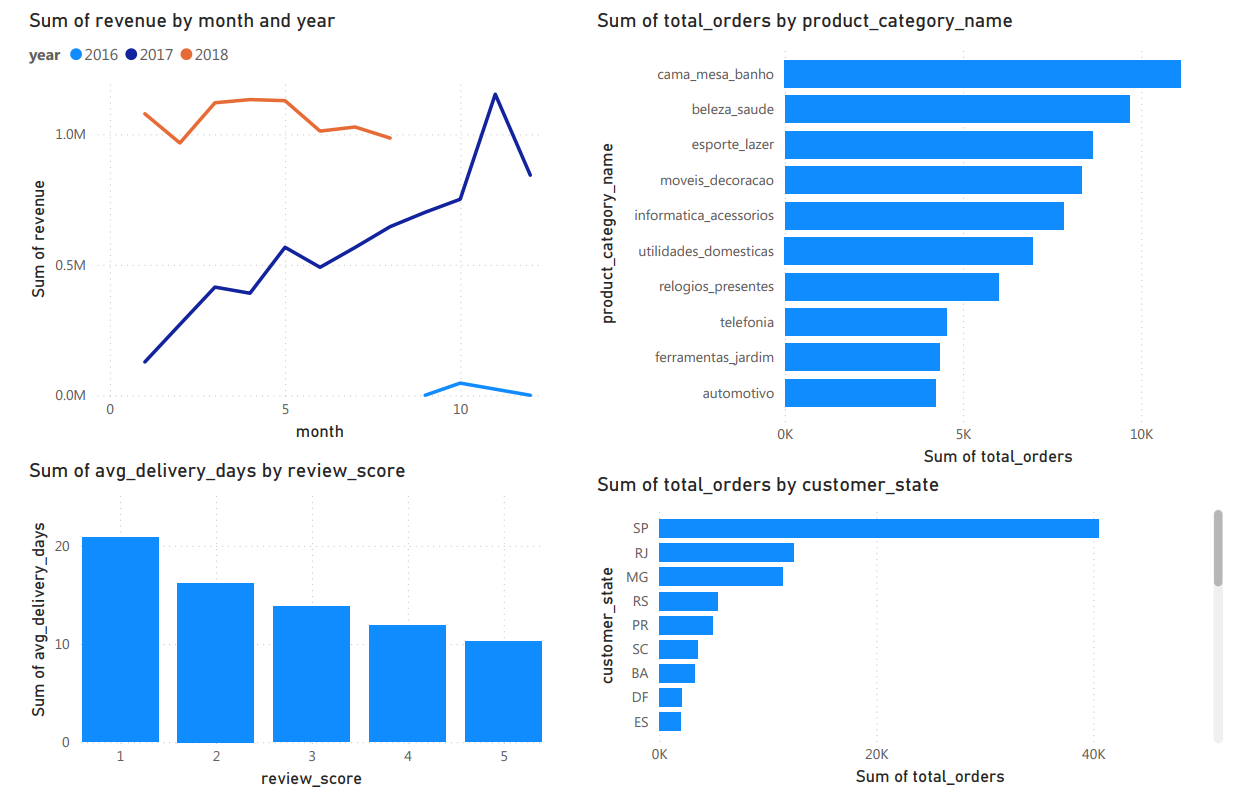

The dashboard page shown, as its layout file describes it:
{"tool":"powerbi","page":{"name":"Page 1","canvas":[1280,720],"ordinal":0},"visuals":[{"type":"lineChart","fields":{"Category":["monthly_revenue.month"],"Y":["Sum(monthly_revenue.revenue)"],"Series":["monthly_revenue.year"]},"box":[0,50.8,447.3,373.2],"z":0},{"type":"clusteredBarChart","fields":{"Category":["top_categories.product_category_name"],"Y":["Sum(top_categories.total_orders)"]},"box":[484.4,50.8,543.4,395.2],"z":1},{"type":"clusteredColumnChart","fields":{"Y":["Sum(review_delivery_days.avg_delivery_days)"],"Category":["review_delivery_days.review_score"]},"box":[0,434,447,286],"z":2},{"type":"clusteredBarChart","fields":{"Category":["customer_by_state.customer_state"],"Y":["Sum(customer_by_state.total_orders)"]},"box":[484,446,543,274],"z":3}]}

Visuals, with their boxes on the page's 1280x720 design canvas (x1, y1, x2, y2). These are canvas units, not pixel positions in the 1233x800 screenshot, which may show the page scaled, cropped or inside an application window:
lineChart - monthly_revenue.month x Sum(monthly_revenue.revenue): 0/51/447/424
clusteredBarChart - top_categories.product_category_name x Sum(top_categories.total_orders): 484/51/1028/446
clusteredColumnChart - Sum(review_delivery_days.avg_delivery_days) x review_delivery_days.review_score: 0/434/447/720
clusteredBarChart - customer_by_state.customer_state x Sum(customer_by_state.total_orders): 484/446/1027/720
